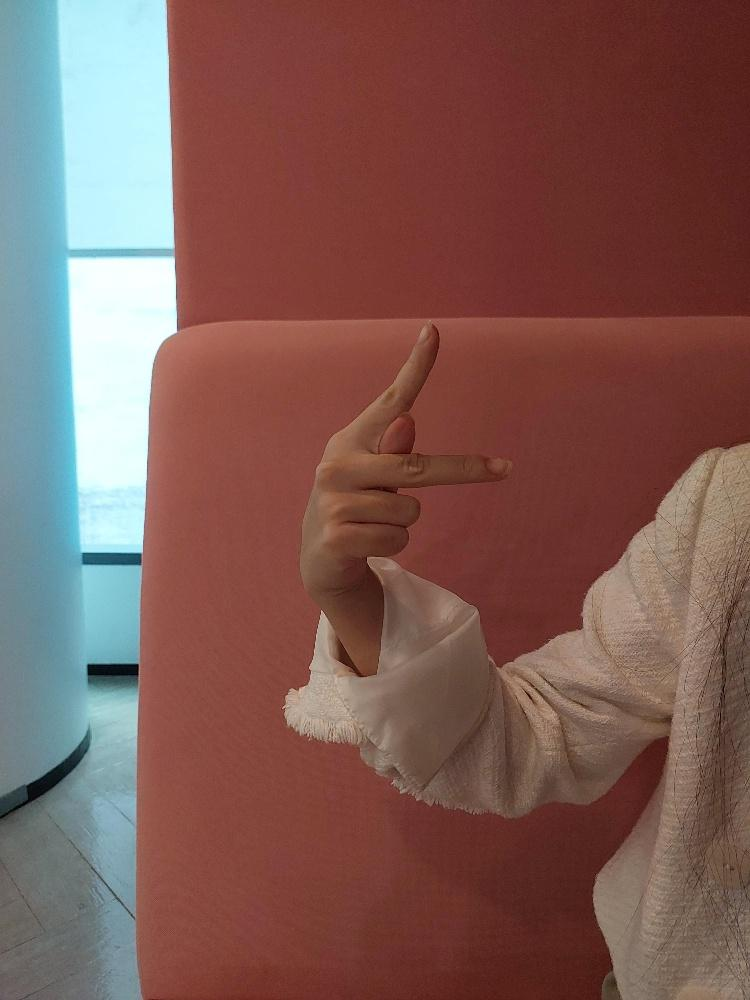k: (299, 325, 511, 578)
